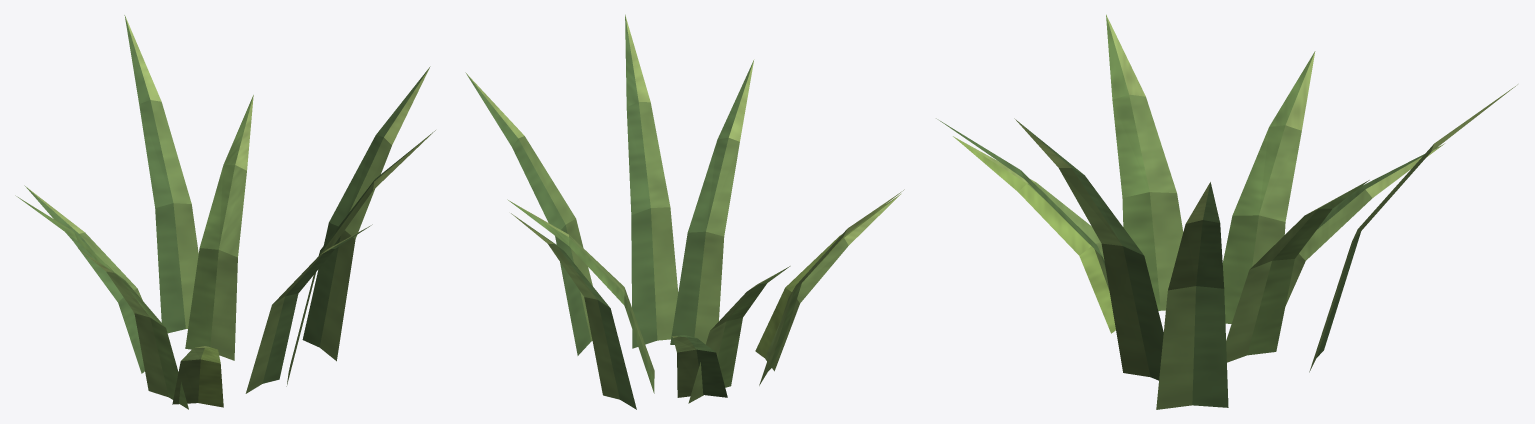
Rendered from grass_clump_short_01.fbx.
The picture shows the model from 3 angles, left to right: view 1: azimuth 30°, elevation 25°; view 2: azimuth 150°, elevation 25°; view 3: azimuth 270°, elevation 25°; orthographic projection. The views are drawn at different scales.
Visible parts, largest first — view 1: grass_clump_short_01; view 2: grass_clump_short_01; view 3: grass_clump_short_01.
Part boxes in pixels (box(x1,y1,x2,y2)): grass_clump_short_01: box(15, 15, 435, 409); grass_clump_short_01: box(465, 14, 904, 409); grass_clump_short_01: box(936, 14, 1517, 409).
Size of the model in its own units: 50.05 by 32 by 54.
Materials: 1 (1 with a texture image).
